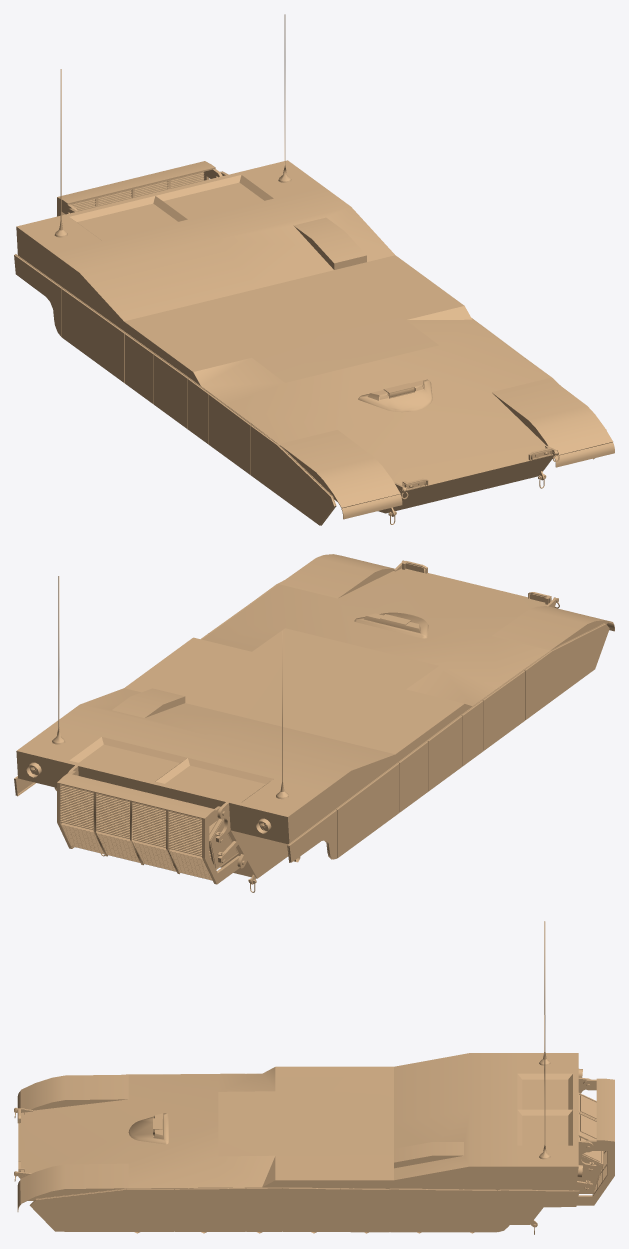
The model's file is tank_base.gltf.
3 views of the same model, one above another, from view 1: azimuth 30°, elevation 25°; view 2: azimuth 150°, elevation 25°; view 3: azimuth 270°, elevation 25° (orthographic). The views are drawn at different scales.
Visible parts, largest first — view 1: Tank; view 2: Tank; view 3: Tank.
Part boxes in pixels (<box>): Tank: <box>14,14,614,525</box>; Tank: <box>14,554,614,892</box>; Tank: <box>14,921,614,1234</box>.
Size of the model in its own units: 3.45 by 3.29 by 7.6.
